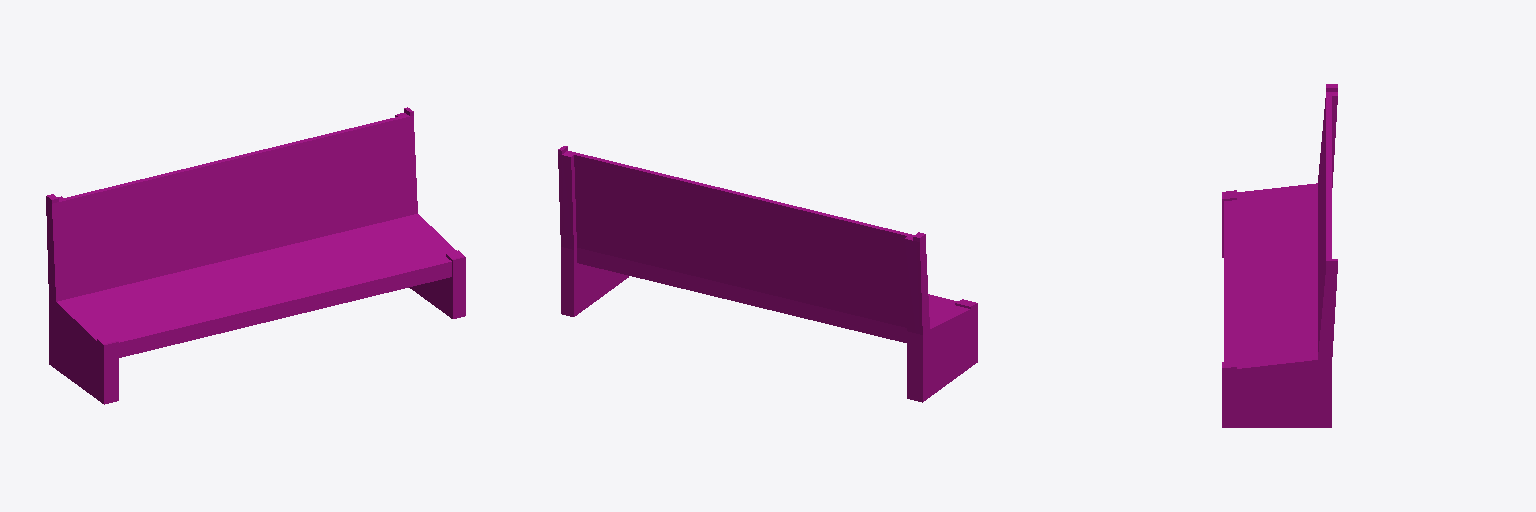
Rendered from ben.obj.
3 views of the same model, side by side, from view 1: azimuth 30°, elevation 25°; view 2: azimuth 150°, elevation 25°; view 3: azimuth 270°, elevation 25° (orthographic).
Parts seen in each view (by area): view 1: Bench; view 2: Bench; view 3: Bench.
Boxes of the visible parts, <box> form: Bench: <box>46,107,465,404</box>; Bench: <box>558,146,977,402</box>; Bench: <box>1222,84,1337,427</box>.
Bounding box in the file's own units: 17.77 × 7.81 × 4.93.